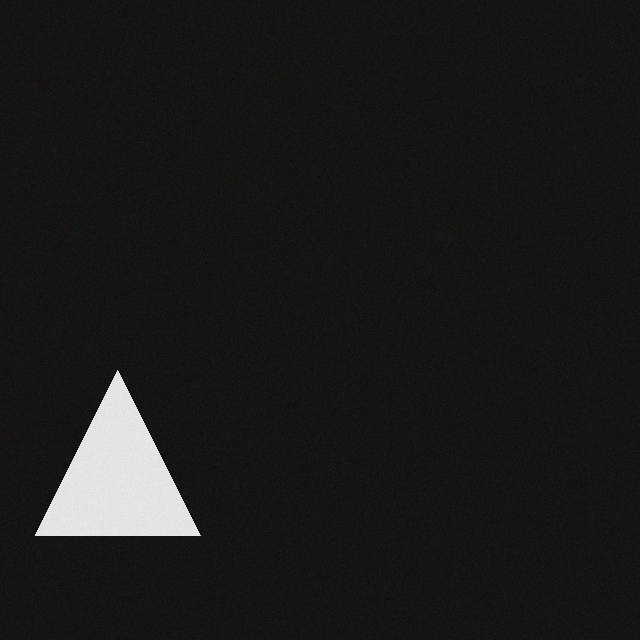triangle: (47, 367, 212, 532)
